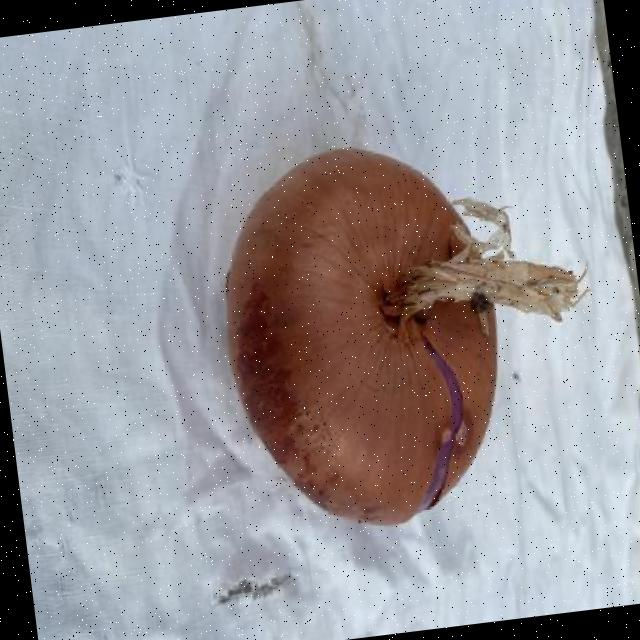Onion: (224, 149, 585, 526)
